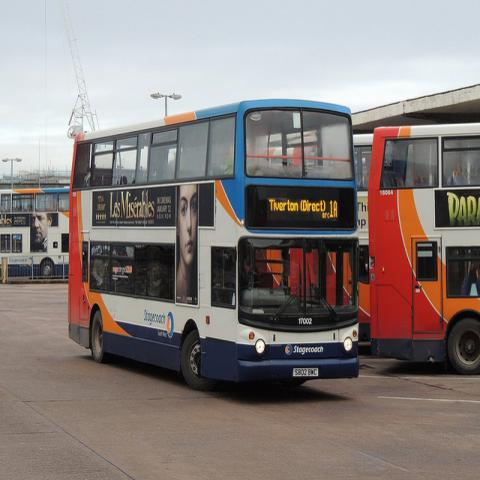bus: (68, 101, 361, 390), (367, 125, 479, 375), (2, 187, 71, 279), (353, 134, 373, 347)
